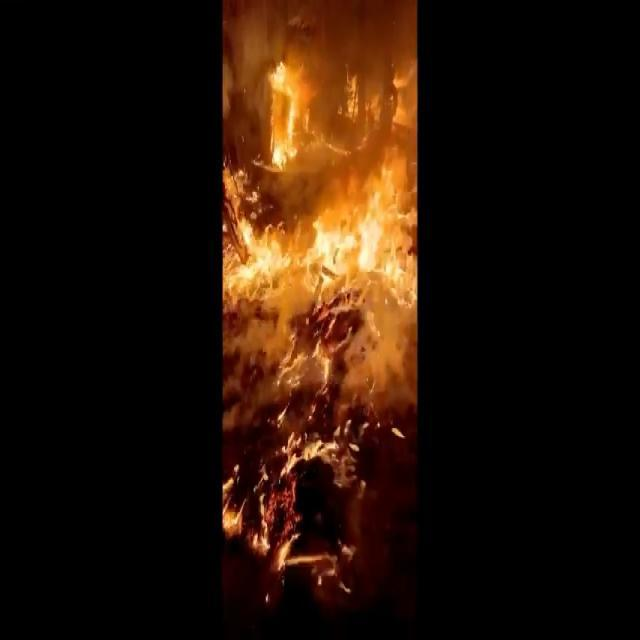Fire: (222, 30, 418, 575)
